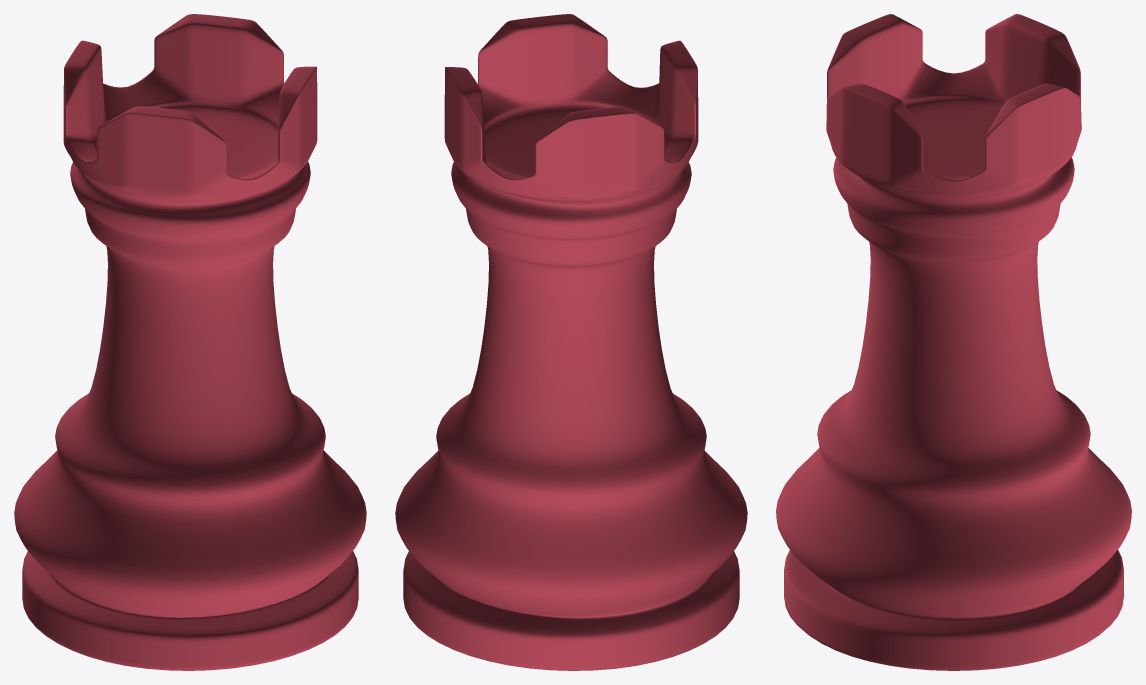
The model's file is rook-b.glb.
3 renders of one model, left to right at view 1: azimuth 30°, elevation 25°; view 2: azimuth 150°, elevation 25°; view 3: azimuth 270°, elevation 25°, orthographic.
Parts seen in each view (by area): view 1: Object_32; view 2: Object_32; view 3: Object_32.
Part boxes in pixels (bbox=[...]): Object_32: bbox=[14, 14, 366, 670]; Object_32: bbox=[395, 14, 747, 670]; Object_32: bbox=[776, 14, 1131, 670].
Size of the model in its own units: 0.7329 by 1.23 by 0.7329.
